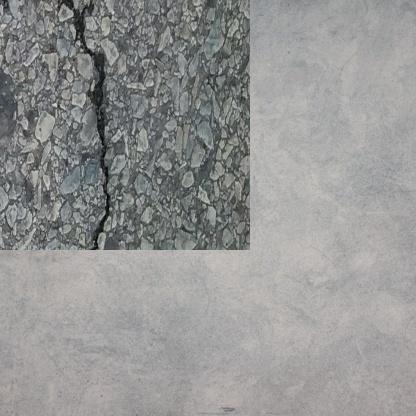Cracks: (46, 0, 104, 231), (0, 0, 19, 10)
